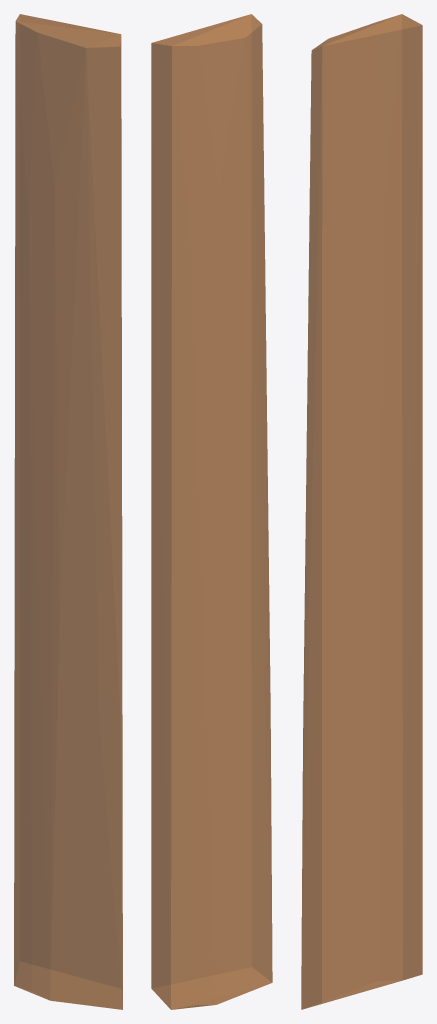
The picture shows the model from 3 angles, left to right: view 1: azimuth 90°, elevation 25°; view 2: azimuth 150°, elevation 25°; view 3: azimuth 330°, elevation 25°; orthographic projection.
Parts seen in each view (by area): view 1: Shape_IndexedFaceSet.023_Shape_IndexedFaceSet.787; view 2: Shape_IndexedFaceSet.023_Shape_IndexedFaceSet.787; view 3: Shape_IndexedFaceSet.023_Shape_IndexedFaceSet.787.
Part boxes in pixels (x1,y1,x2,y2): Shape_IndexedFaceSet.023_Shape_IndexedFaceSet.787: (14,14,122,1009); Shape_IndexedFaceSet.023_Shape_IndexedFaceSet.787: (151,14,272,1009); Shape_IndexedFaceSet.023_Shape_IndexedFaceSet.787: (301,14,422,1009).
Size of the model in its own units: 0.0901 by 1.19 by 0.1219.
